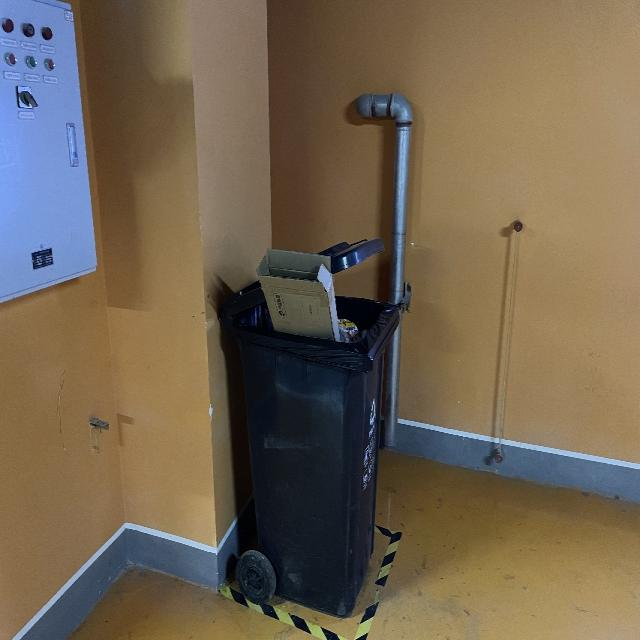overflow: (220, 238, 401, 620)
